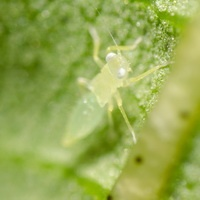insect: (77, 26, 172, 143)
